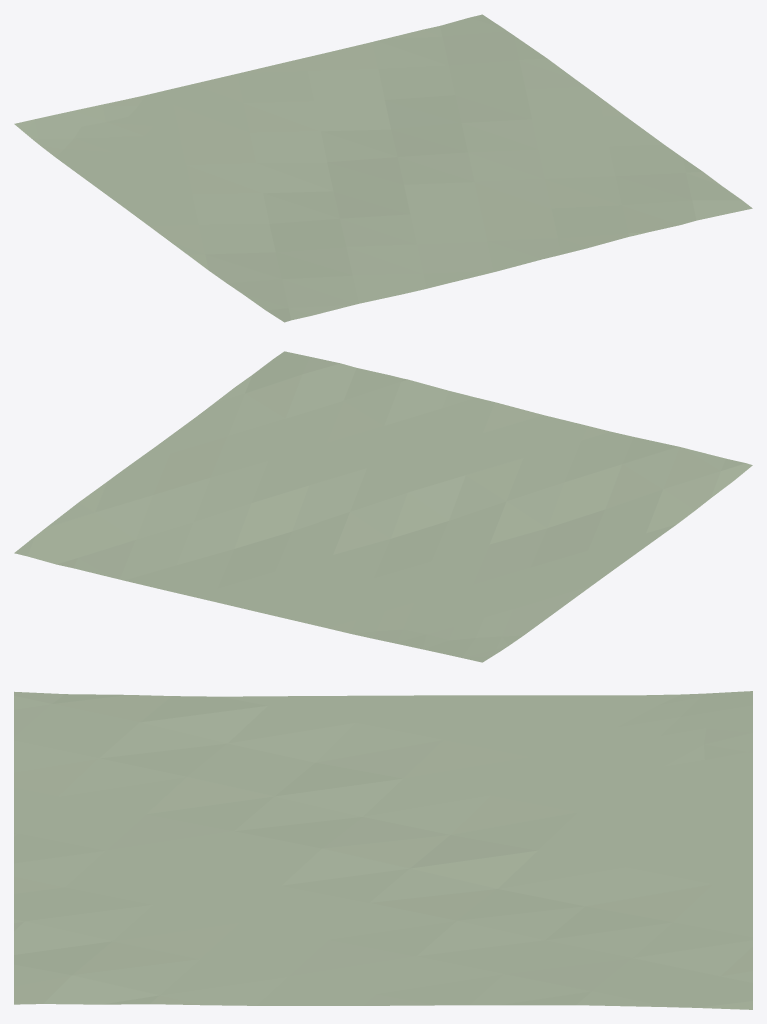
The model's file is SM_MPRR_Terrain_1_-2.fbx.
3 renders of one model, top to bottom at view 1: azimuth 30°, elevation 25°; view 2: azimuth 150°, elevation 25°; view 3: azimuth 270°, elevation 25°, orthographic. The views are drawn at different scales.
Parts seen in each view (by area): view 1: SM_MPRR_Terrain_1_-2; view 2: SM_MPRR_Terrain_1_-2; view 3: SM_MPRR_Terrain_1_-2.
Part boxes in pixels (x1=…): SM_MPRR_Terrain_1_-2: x1=14, y1=14, x2=752, y2=322; SM_MPRR_Terrain_1_-2: x1=14, y1=351, x2=752, y2=662; SM_MPRR_Terrain_1_-2: x1=14, y1=691, x2=752, y2=1009.
Size of the model in its own units: 15000 by 15000 by 241.
